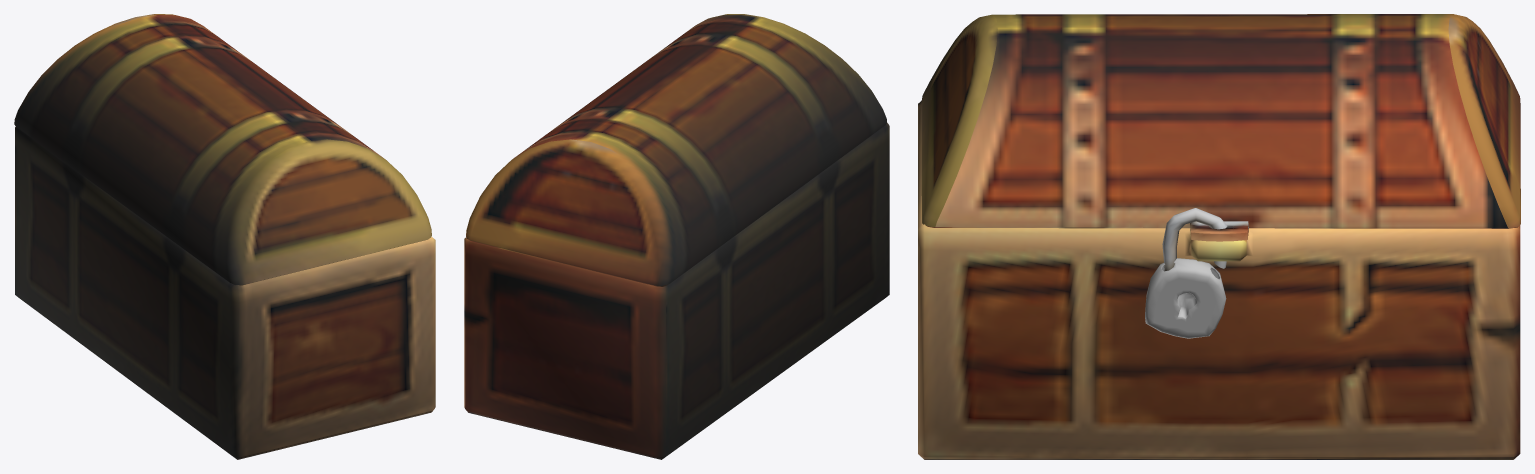
The model's file is chest.glb.
3 renders of one model, left to right at view 1: azimuth 30°, elevation 25°; view 2: azimuth 150°, elevation 25°; view 3: azimuth 270°, elevation 25°, orthographic. The views are drawn at different scales.
Parts seen in each view (by area): view 1: Chest_Base_lp, Chest_Lid_lp; view 2: Chest_Base_lp, Chest_Lid_lp; view 3: Chest_Base_lp, Chest_Lid_lp, lock2_lp, lock1_lp.
Part boxes in pixels (<box>): Chest_Base_lp: <box>15,127,435,459</box>; Chest_Lid_lp: <box>14,14,431,285</box>; Chest_Base_lp: <box>464,122,889,459</box>; Chest_Lid_lp: <box>466,14,886,286</box>; Chest_Base_lp: <box>918,101,1520,459</box>; Chest_Lid_lp: <box>921,14,1520,241</box>; lock2_lp: <box>1145,258,1226,338</box>; lock1_lp: <box>1162,208,1227,271</box>.
Bounding box in the file's own units: 0.5275 × 0.6174 × 0.9177.
2 materials, 1 textured.
